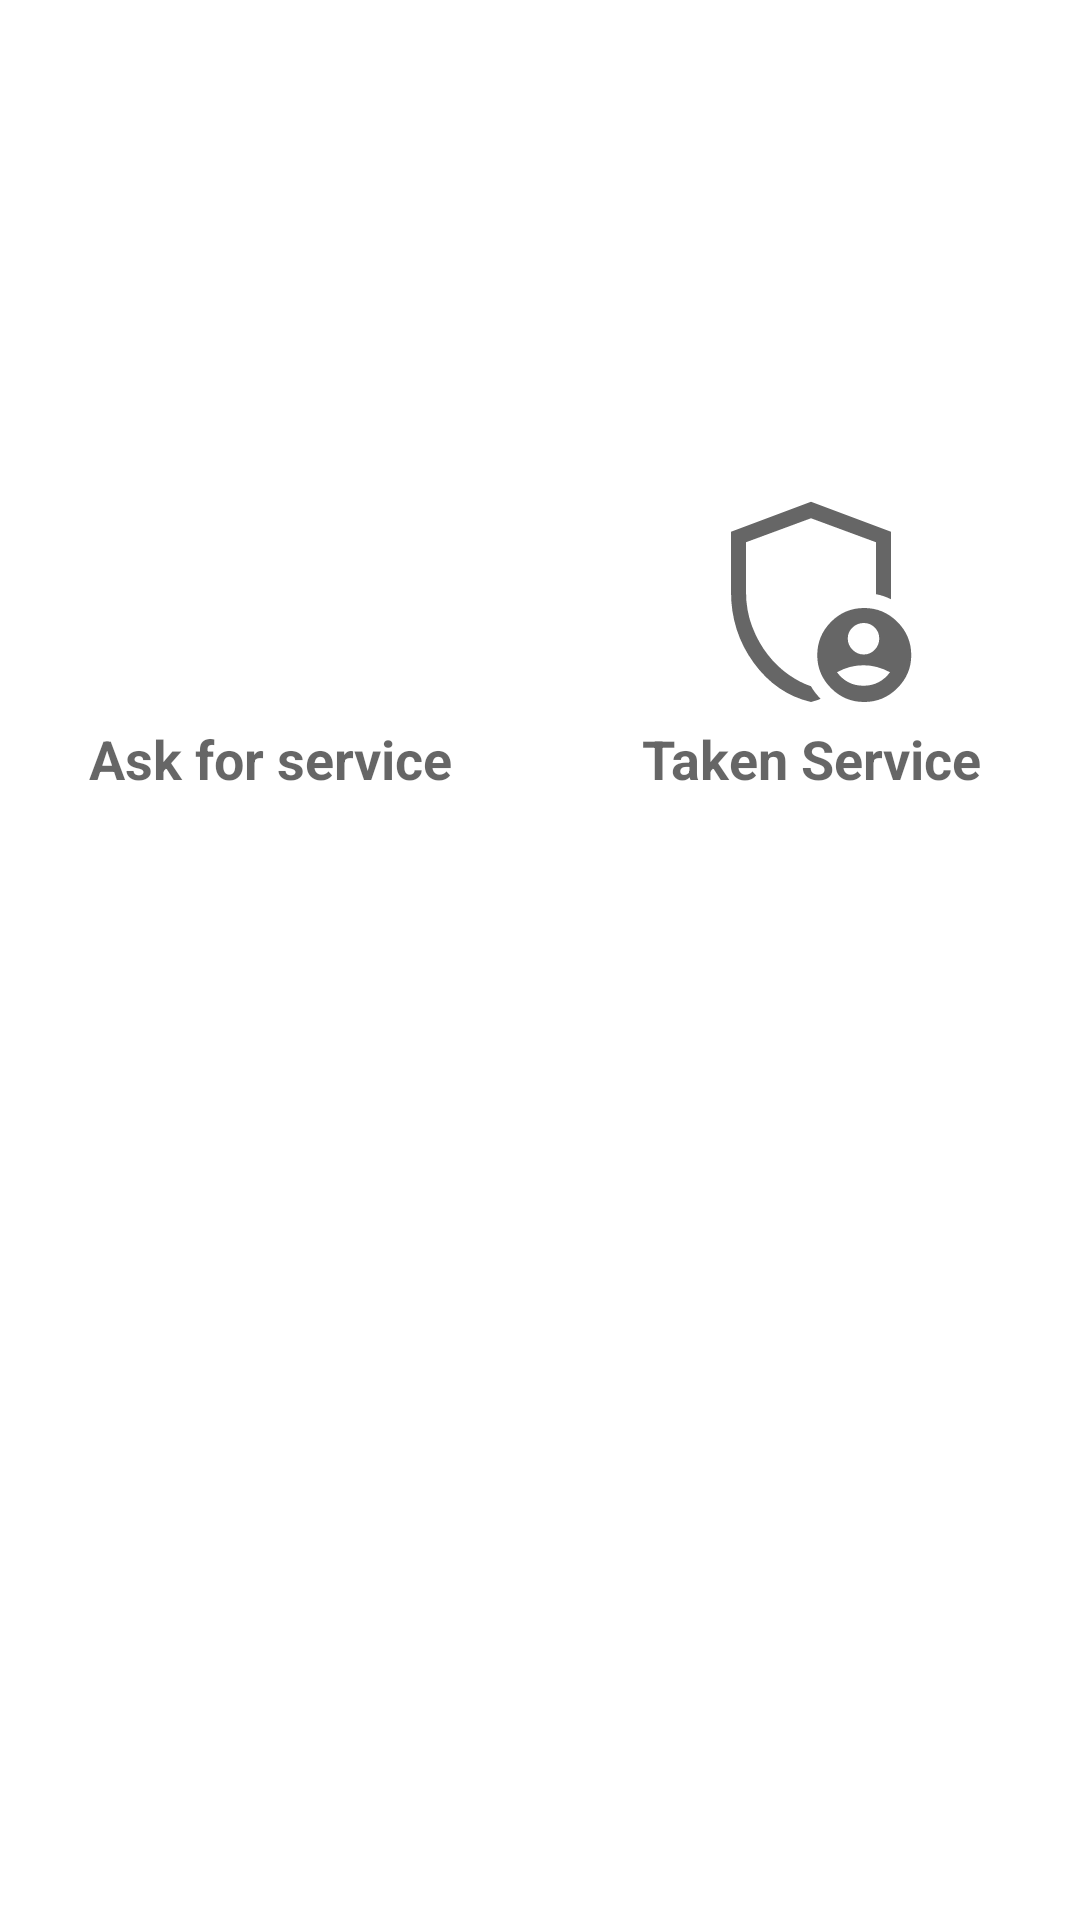

Icon bounding boxes for this 1080*1920 phone screenshot, format (x1, y1, x2, y2):
admin: (731, 502, 912, 702)
